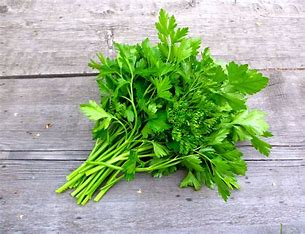Cilantro: (55, 7, 276, 208)
